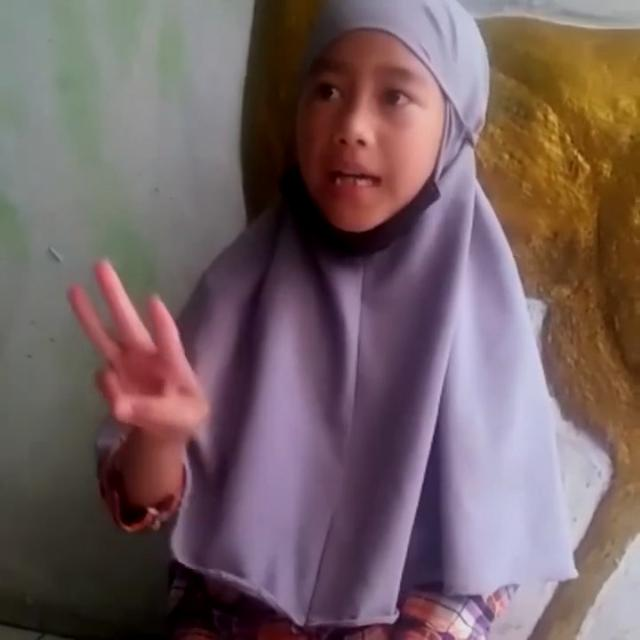W: (65, 256, 215, 442)
